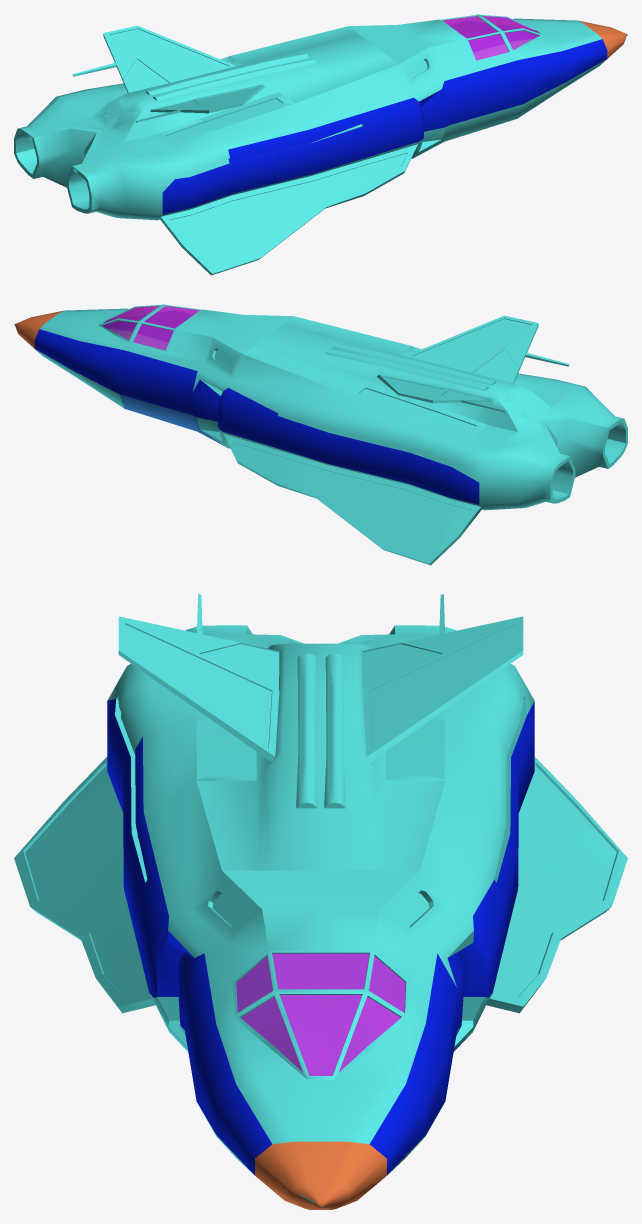
Rendered from teal-lame.glb.
The picture shows the model from 3 angles, top to bottom: view 1: azimuth 30°, elevation 25°; view 2: azimuth 150°, elevation 25°; view 3: azimuth 270°, elevation 25°; orthographic projection. The views are drawn at different scales.
Parts seen in each view (by area): view 1: ship-2-teal; view 2: ship-2-teal; view 3: ship-2-teal.
Part boxes in pixels (left/top/right/bottom): ship-2-teal: left=14, top=14, right=627, bottom=275; ship-2-teal: left=14, top=304, right=627, bottom=565; ship-2-teal: left=14, top=594, right=627, bottom=1209.
Size of the model in its own units: 14.15 by 3.3 by 6.83.
